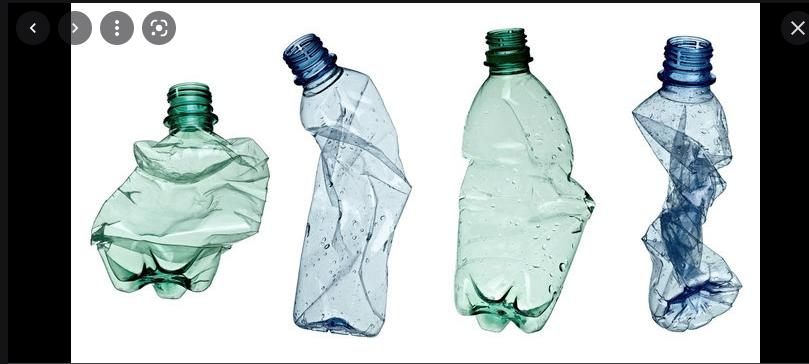Plastic: (451, 16, 596, 343), (87, 55, 271, 309), (278, 9, 412, 344), (629, 31, 748, 338)
